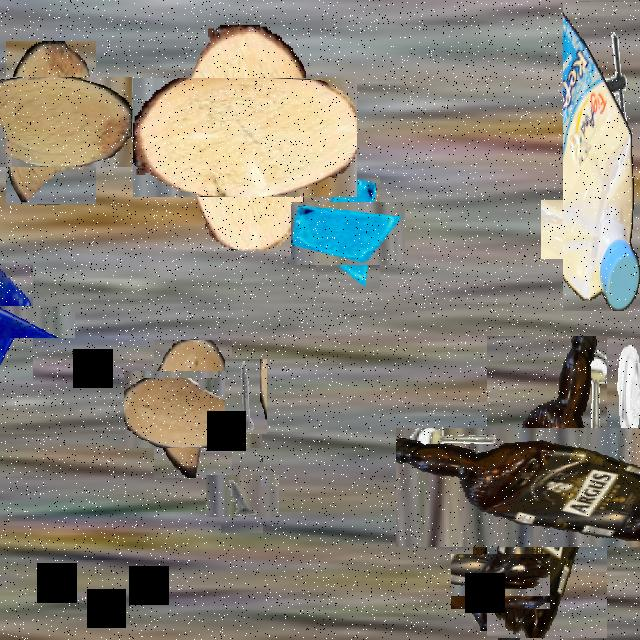glass: (304, 188, 392, 278), (0, 284, 54, 359)
metal: (553, 188, 637, 271), (462, 543, 540, 620), (213, 467, 271, 525), (225, 359, 267, 434), (614, 340, 640, 442), (627, 442, 640, 538)
plastic: (441, 381, 640, 592), (563, 2, 640, 311)
wood: (159, 51, 331, 223), (0, 59, 114, 185), (139, 355, 247, 463)
